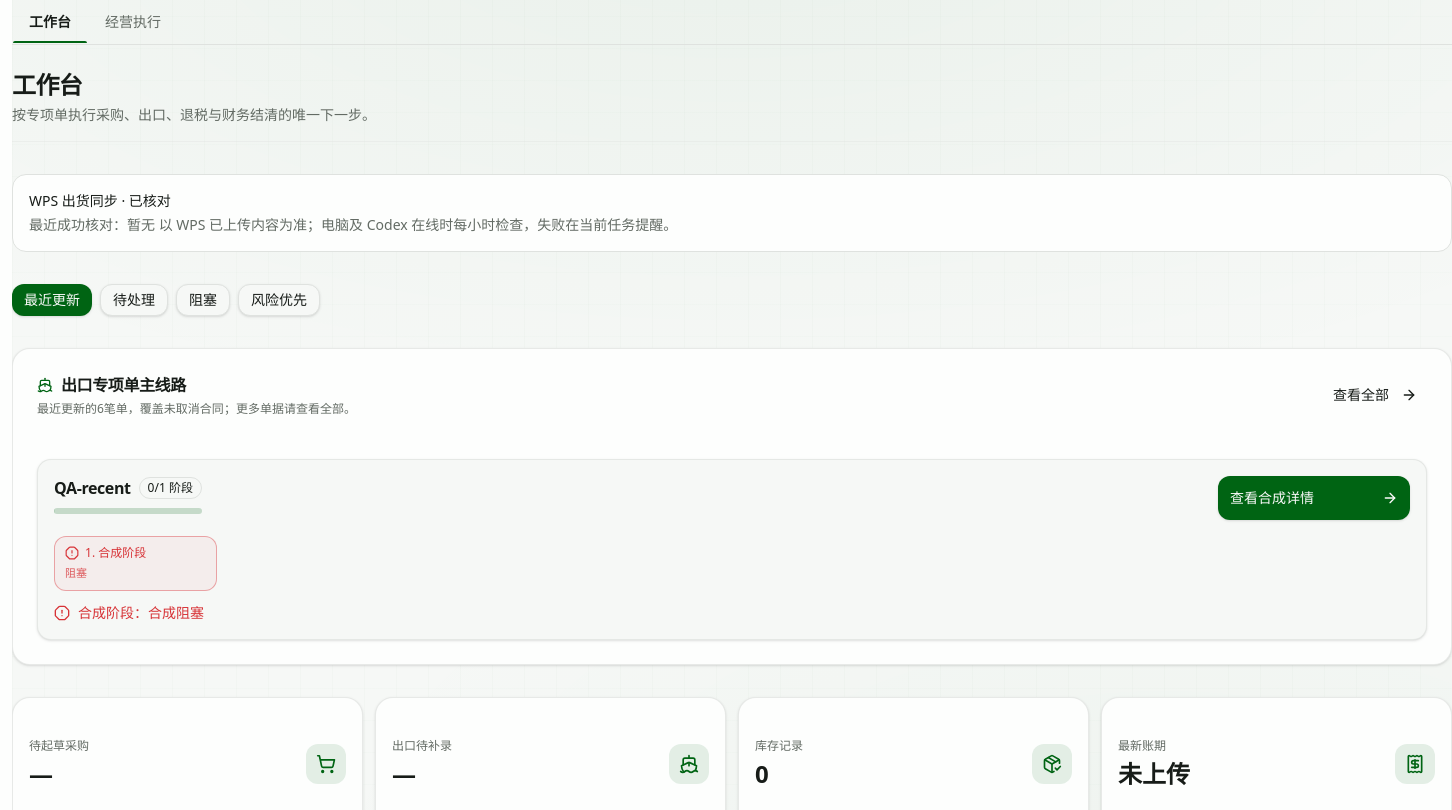
Test case: 工作台范围返回上下文 › 无效范围安全回到最近更新，选择最近更新清除参数而保留来源
Expected: the heading "QA-recent" is shown, [54, 476, 130, 500]
Click the button "阻塞". click: x=203, y=300
box: [176, 284, 230, 316]
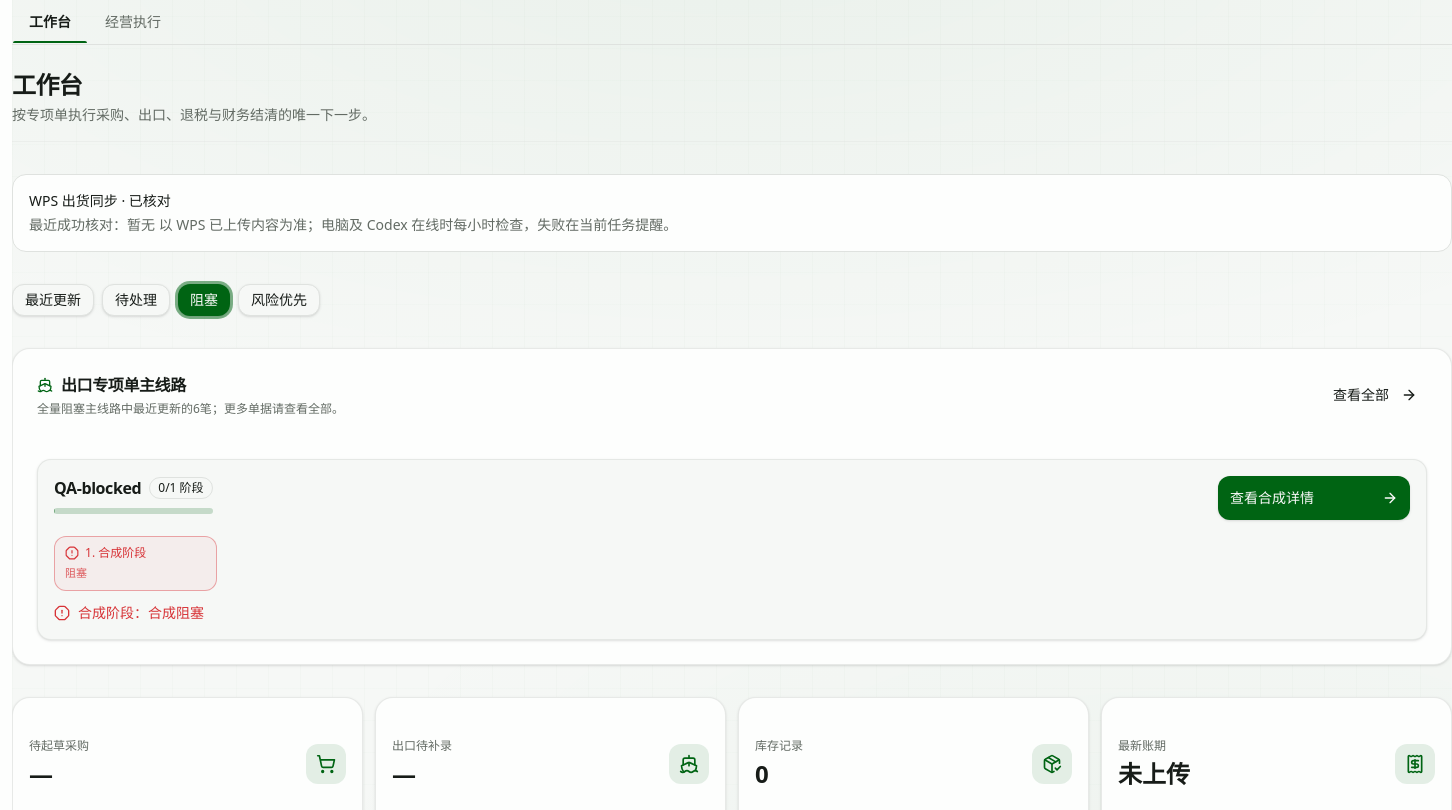
Now the heading "QA-blocked" is shown, box [54, 476, 141, 500]
Click the button "最近更新". click: x=53, y=300
box: [12, 284, 94, 316]
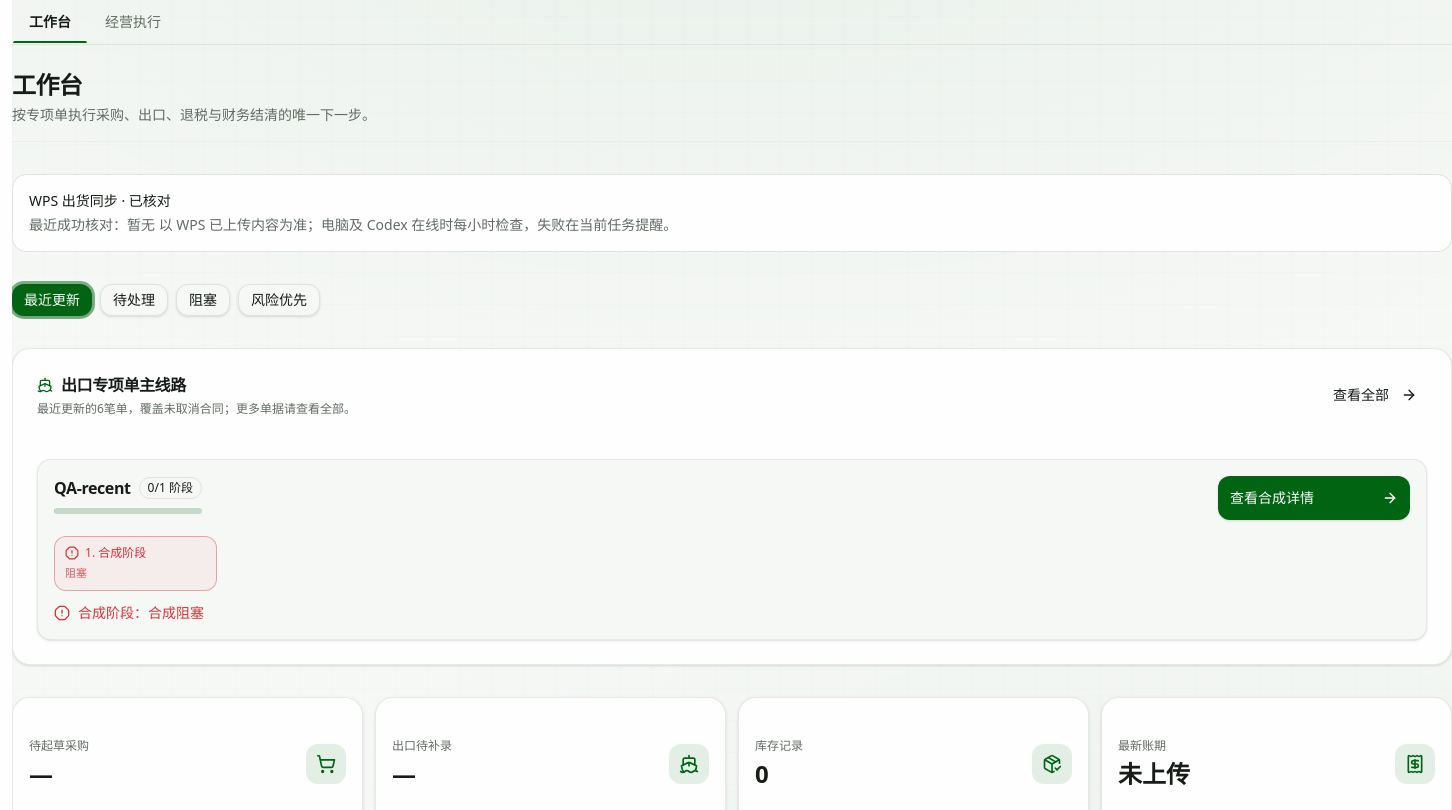
Now the heading "QA-recent" is shown, box [54, 476, 130, 500]
